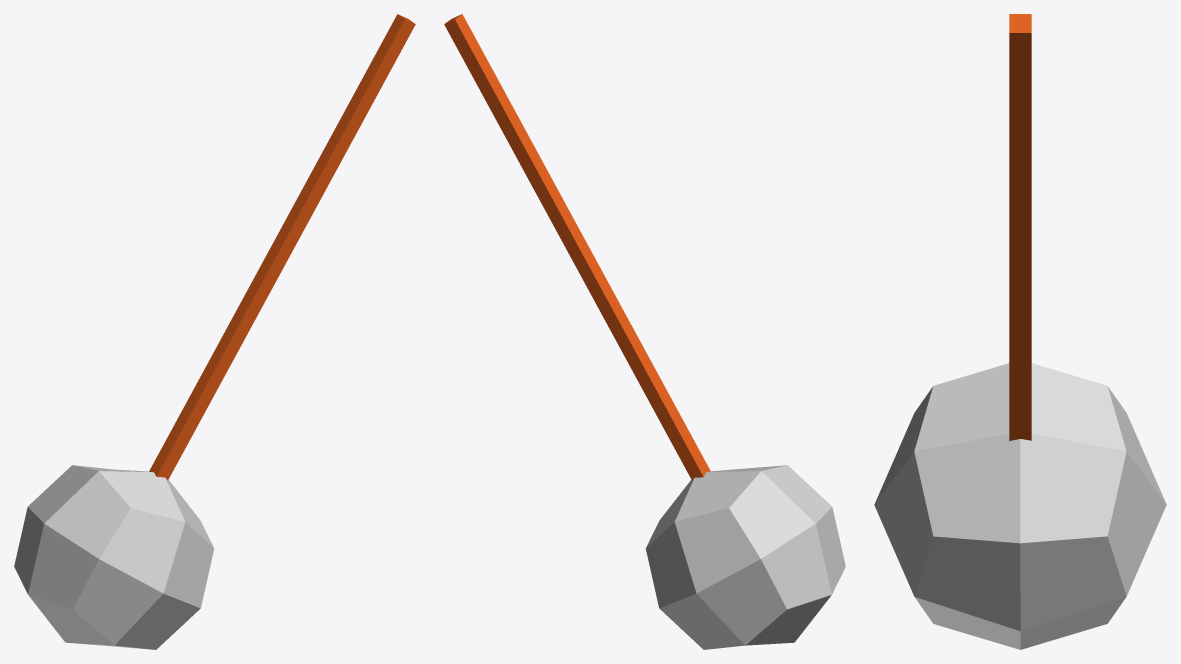
Rendered from Pendulomoviendo.fbx.
3 views of the same model, side by side, from view 1: azimuth 30°, elevation 25°; view 2: azimuth 150°, elevation 25°; view 3: azimuth 270°, elevation 25° (orthographic). The views are drawn at different scales.
Parts seen in each view (by area): view 1: Cube; view 2: Cube; view 3: Cube.
Part boxes in pixels (<box>): Cube: <box>14,14,415,649</box>; Cube: <box>444,14,845,649</box>; Cube: <box>874,14,1166,649</box>.
Size of the model in its own units: 5917 by 8257 by 2629.
